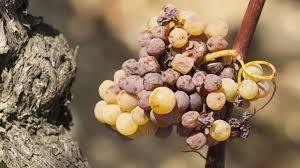Grape Rotten: (95, 0, 275, 150)
